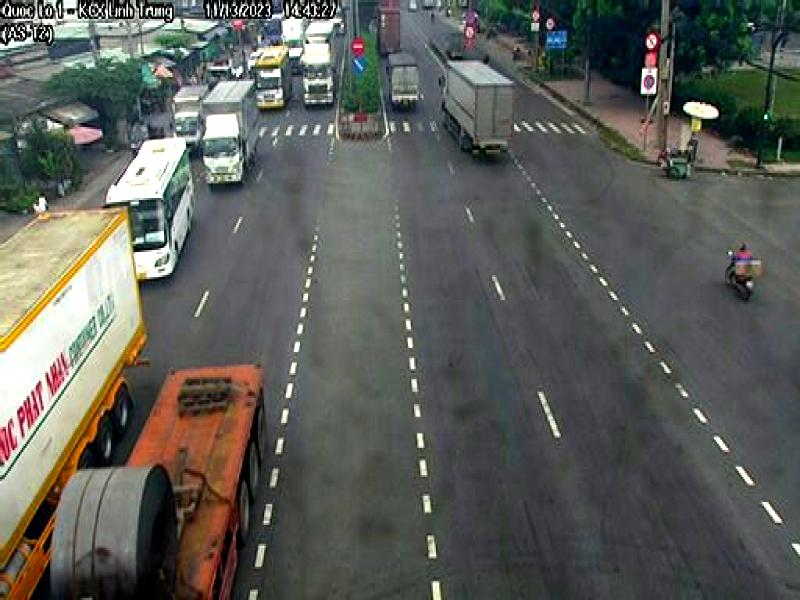bus: (106, 138, 200, 278)
truck: (202, 81, 260, 186)
